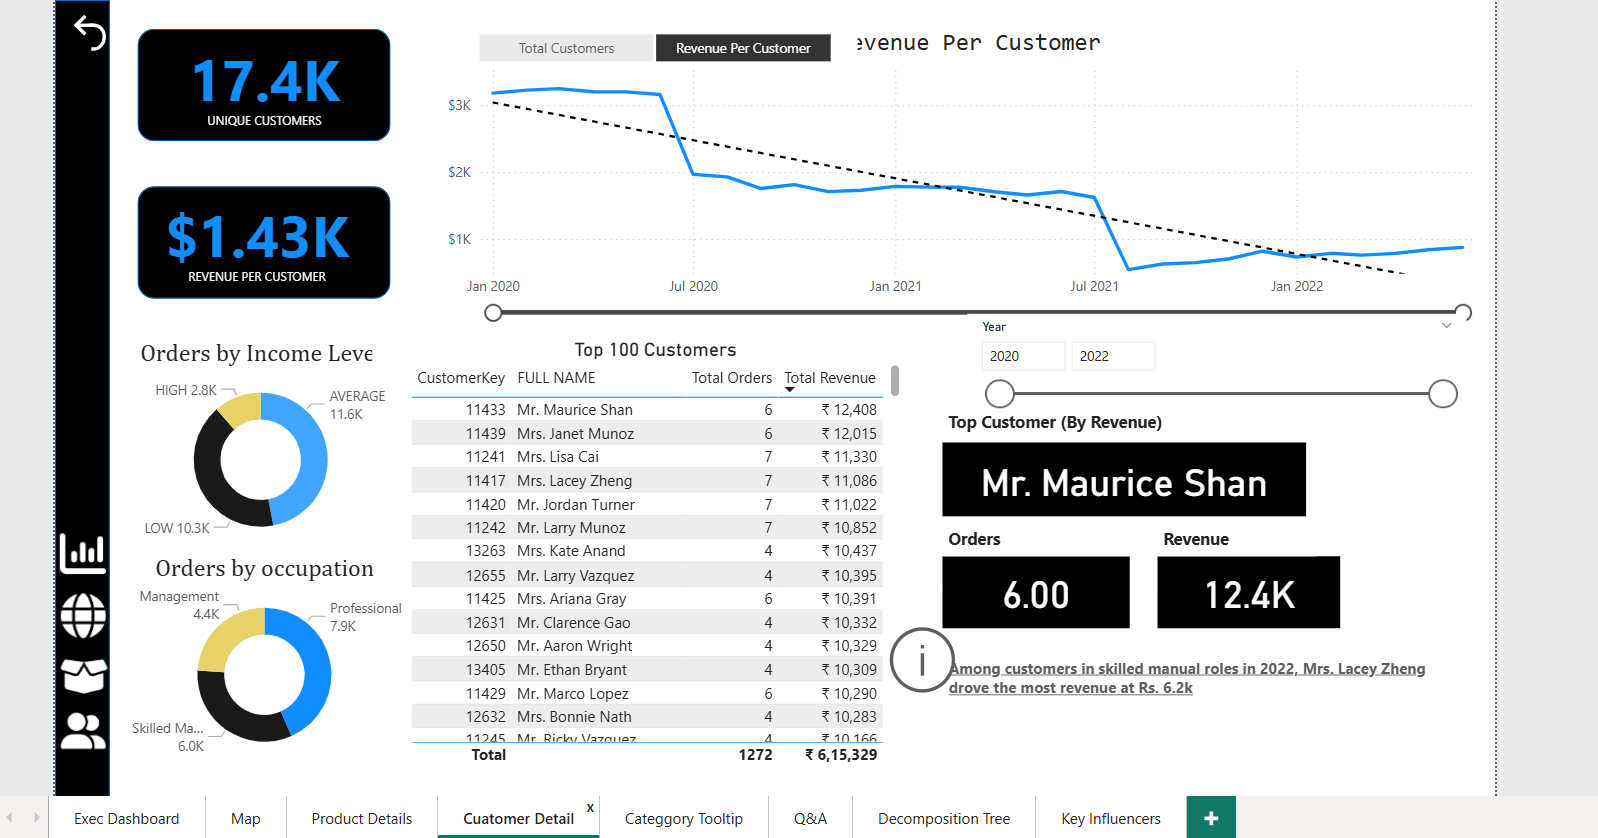

What the dashboard file says about the page in this screenshot:
{"tool":"powerbi","page":{"name":"Cuatomer Detail","canvas":[1280,720],"ordinal":3},"visuals":[{"type":"shape","box":[0,0,48.8,720.2],"z":0},{"type":"actionButton","box":[0,460.8,49.4,62],"z":0,"group":"g1"},{"type":"shape","box":[73.3,165,225,100],"z":1000},{"type":"actionButton","box":[1.6,523.2,68.4,48.1],"z":1000,"group":"g1"},{"type":"shape","box":[73.3,25,225,100],"z":2000},{"type":"actionButton","box":[1.3,576,68.4,49.4],"z":2000,"group":"g1"},{"type":"card","fields":{"Values":["Measure Table.Total Customers"]},"box":[55,8.3,261.7,133.3],"z":3000},{"type":"actionButton","box":[1.3,625.4,100,48.1],"z":3000,"group":"g1"},{"type":"card","fields":{"Values":["Measure Table.Average Per Customer"]},"box":[48.3,146.7,261.7,135],"z":4000},{"type":"lineChart","fields":{"Y":["Measure Table.Average Revenue Per Customer"],"Category":["Calendar Lookup.Date Hierarchy.Start of Year","Calendar Lookup.Date Hierarchy.Start of Month","Calendar Lookup.Date Hierarchy.Start of Week","Calendar Lookup.Date Hierarchy.Date"]},"box":[344,24,936,264],"z":5000},{"type":"donutChart","title":"Orders by Income Level","fields":{"Category":["Customer Lookup.Income Level"],"Y":["Measure Table.Total Orders"]},"box":[55,301.7,255,191.7],"z":6000},{"type":"donutChart","title":"Orders by occupation","fields":{"Category":["Customer Lookup.Occupation"],"Y":["Measure Table.Total Orders"]},"box":[58.3,493.3,255,191.7],"z":7000},{"type":"tableEx","title":"Top 100 Customers","fields":{"Values":["Customer Lookup.CustomerKey","Customer Lookup.FULL NAME","Measure Table.Total Orders","Measure Table.Total Revenue"]},"box":[310.6,299.6,445.1,385.2],"z":8000},{"type":"card","fields":{"Values":["Min(Customer Lookup.FULL NAME)"]},"box":[788.4,393.2,323.5,65.9],"z":9000},{"type":"textbox","box":[788.4,360.3,323.5,31],"z":10000},{"type":"card","fields":{"Values":["Measure Table.Total Orders (customer detail)"]},"box":[788.4,493.9,166.6,63.9],"z":11000},{"type":"textbox","box":[788.4,463,166.6,31],"z":12000},{"type":"card","fields":{"Values":["Measure Table.Total Revenue (Customer Detail)"]},"box":[980.1,493.9,162.7,63.9],"z":13000},{"type":"textbox","box":[980.1,463,141.4,31],"z":14000},{"type":"slicer","fields":{"Values":["Calendar Lookup.Year"]},"box":[811.6,278.9,443.6,87.2],"z":15000},{"type":"actionButton","box":[734.9,550.5,490.8,73.2],"z":16000},{"type":"actionButton","box":[10,7.5,107.5,42.5],"z":17000},{"type":"group","id":"g1","title":"Navigation Buttons","box":[0,460.8,101.3,212.7],"z":18000},{"type":"slicer","fields":{"Values":["Customer Metric Selection.Customer Metric Selection"]},"box":[350.6,23.2,362.2,36.8],"z":19501}]}

Visuals, with their boxes on the page's 1280x720 design canvas (x1, y1, x2, y2). These are canvas units, not pixel positions in the 1598x838 screenshot, which may show the page scaled, cropped or inside an application window:
shape: [x1=0, y1=0, x2=49, y2=720]
actionButton: [x1=0, y1=461, x2=49, y2=523]
shape: [x1=73, y1=165, x2=298, y2=265]
actionButton: [x1=2, y1=523, x2=70, y2=571]
shape: [x1=73, y1=25, x2=298, y2=125]
actionButton: [x1=1, y1=576, x2=70, y2=625]
card - Measure Table.Total Customers: [x1=55, y1=8, x2=317, y2=142]
actionButton: [x1=1, y1=625, x2=101, y2=674]
card - Measure Table.Average Per Customer: [x1=48, y1=147, x2=310, y2=282]
lineChart - Measure Table.Average Revenue Per Customer x Calendar Lookup.Date Hierarchy.Start of Year: [x1=344, y1=24, x2=1280, y2=288]
"Orders by Income Level" donutChart: [x1=55, y1=302, x2=310, y2=493]
"Orders by occupation" donutChart: [x1=58, y1=493, x2=313, y2=685]
"Top 100 Customers" tableEx: [x1=311, y1=300, x2=756, y2=685]
card - Min(Customer Lookup.FULL NAME): [x1=788, y1=393, x2=1112, y2=459]
textbox: [x1=788, y1=360, x2=1112, y2=391]
card - Measure Table.Total Orders (customer detail): [x1=788, y1=494, x2=955, y2=558]
textbox: [x1=788, y1=463, x2=955, y2=494]
card - Measure Table.Total Revenue (Customer Detail): [x1=980, y1=494, x2=1143, y2=558]
textbox: [x1=980, y1=463, x2=1122, y2=494]
slicer - Calendar Lookup.Year: [x1=812, y1=279, x2=1255, y2=366]
actionButton: [x1=735, y1=550, x2=1226, y2=624]
actionButton: [x1=10, y1=8, x2=118, y2=50]
"Navigation Buttons" group: [x1=0, y1=461, x2=101, y2=674]
slicer - Customer Metric Selection.Customer Metric Selection: [x1=351, y1=23, x2=713, y2=60]
